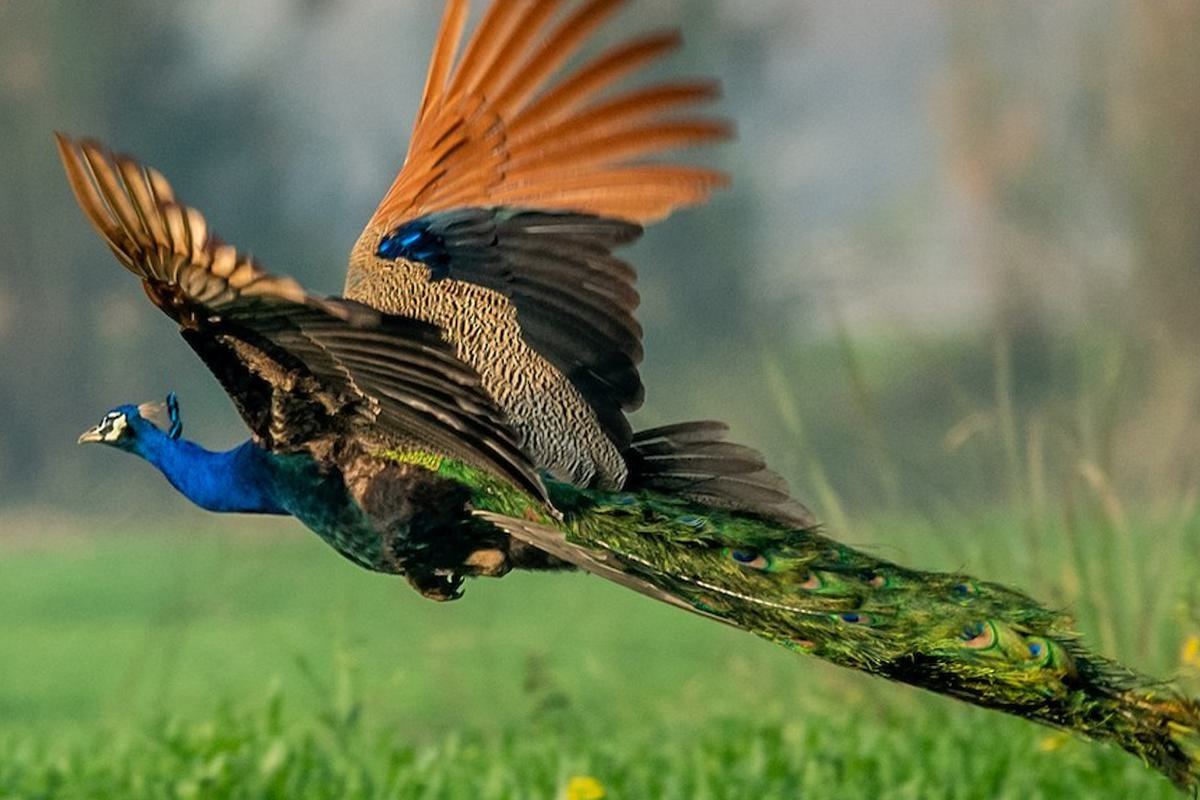peacock: (45, 54, 1097, 687)
